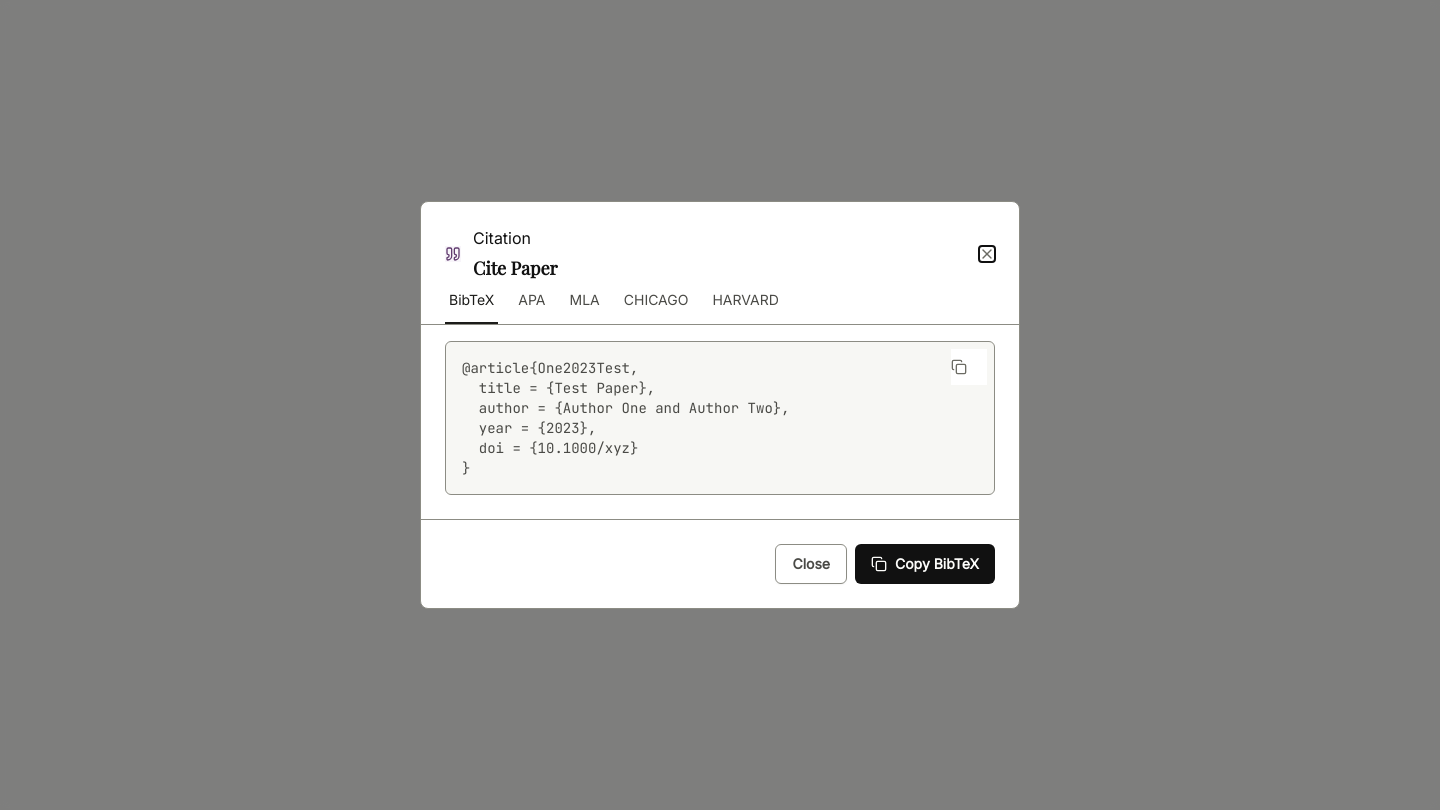
CitationDialog › switches tabs and updates citation format
The width and height of the screenshot is (1440, 810).
Switch to APA
Step 1. Click the tab "APA" → (532, 307), box [514,290,550,324]
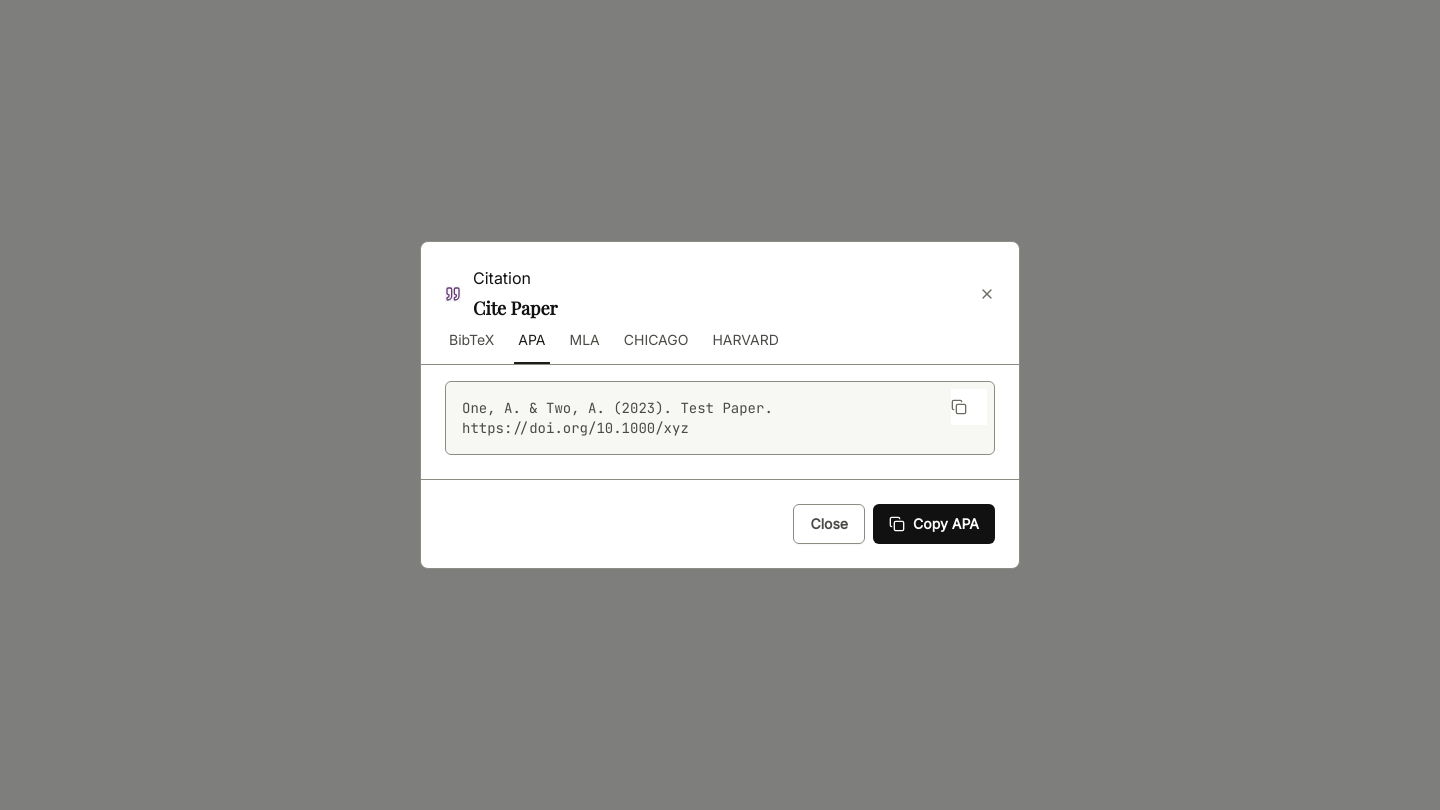
Result: the text "One, A. & Two, A. (2023). Test Paper." is shown at [462,399,781,437]
Switch to MLA
Step 2. Click the tab "MLA" → (585, 347), box [566,330,604,364]
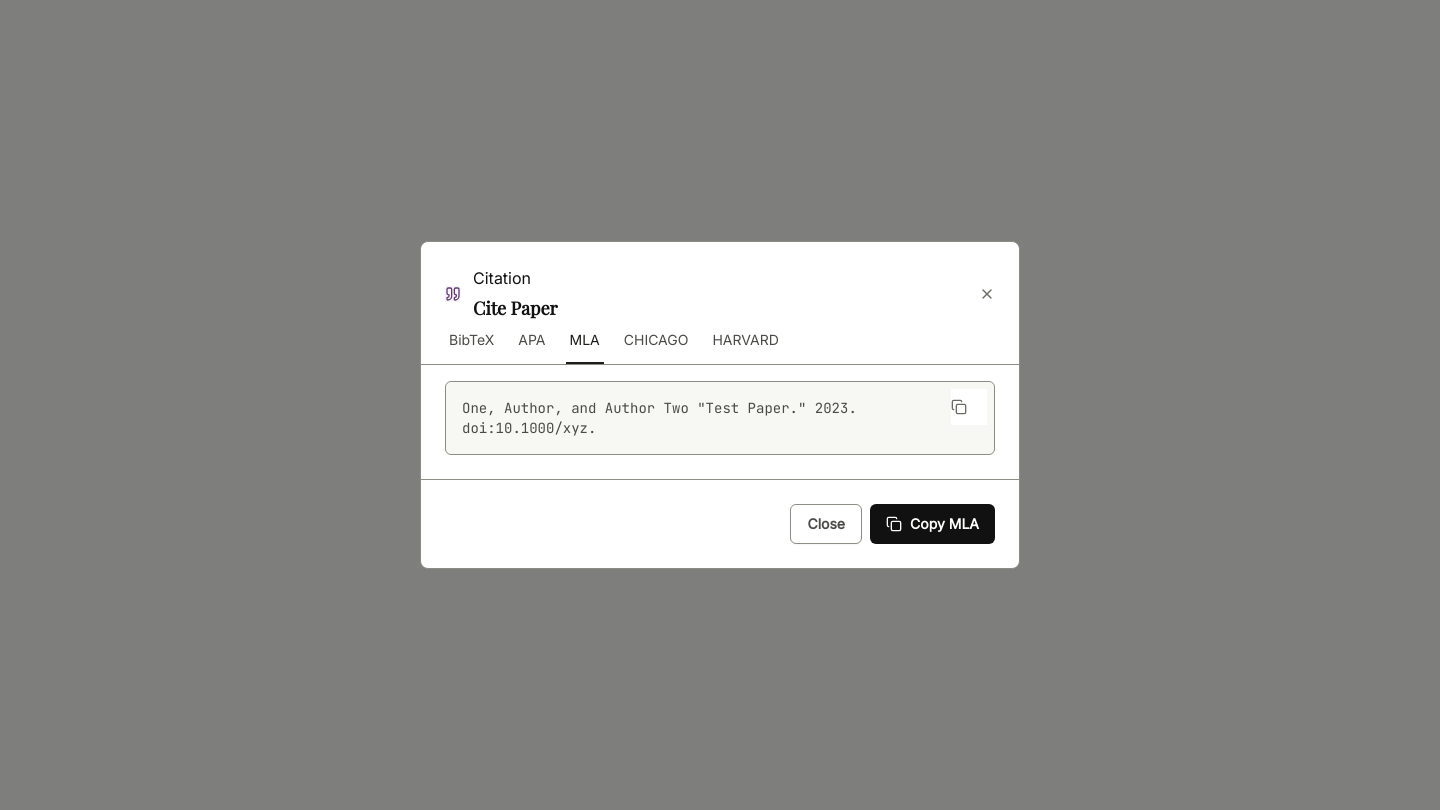
Result: the text "One, Author, and Author Two \"Test Paper.\" 2023." is shown at [462,399,865,437]
